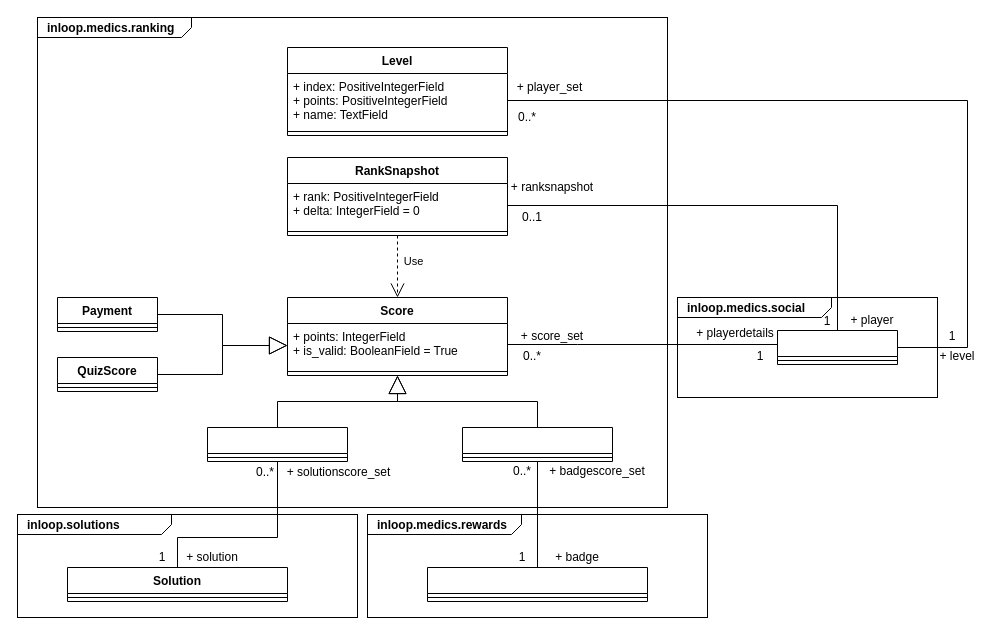
The diagram is 995 pixels wide and 635 high, and some of its shapes have lost their labels. The centre of each missing label's shape, as x and y in pixels:
"Badge" goes at (x=537, y=584).
"BadgeScore" goes at (x=537, y=444).
"PlayerDetails" goes at (x=837, y=347).
"SolutionScore" goes at (x=277, y=444).
